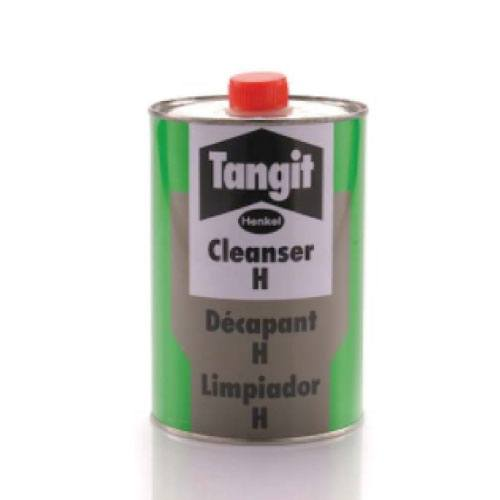Cleaning_solution: (139, 65, 371, 459)
